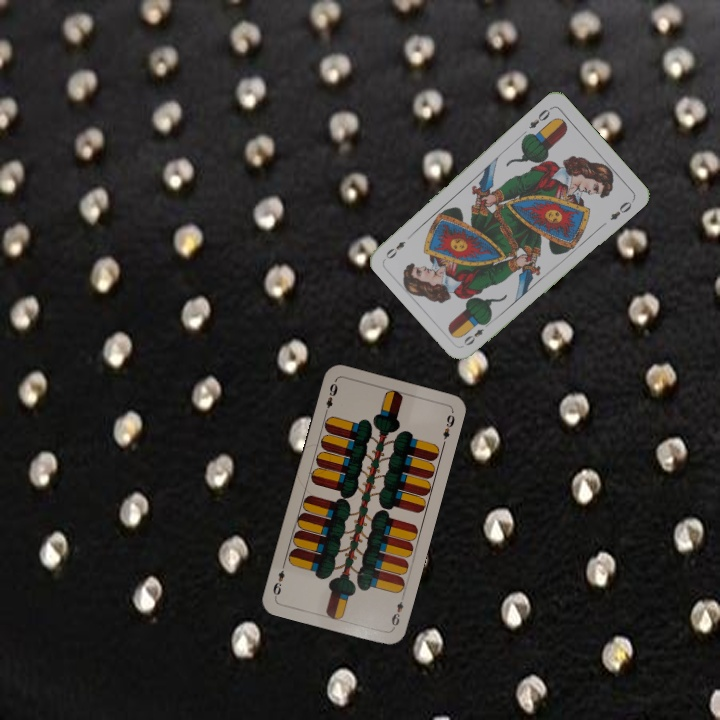E9: (387, 591, 407, 631), (321, 379, 340, 417)
EO: (460, 317, 493, 349), (525, 103, 554, 131)
